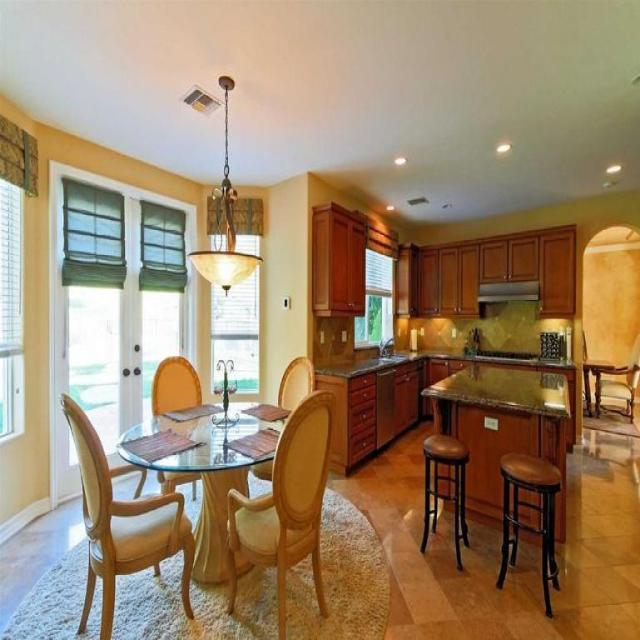carpet: (2, 472, 390, 638)
chair: (59, 391, 195, 639), (225, 389, 335, 639)
cupboard: (310, 200, 367, 318), (314, 369, 376, 475), (538, 222, 576, 316), (478, 230, 538, 284), (438, 240, 479, 318), (395, 242, 418, 318)
curtains: (61, 176, 126, 289)
faucet: (378, 338, 394, 357)
lamps: (187, 75, 263, 296)
table: (115, 400, 290, 584)
windows: (49, 159, 198, 506), (0, 175, 25, 441), (353, 246, 394, 349)
